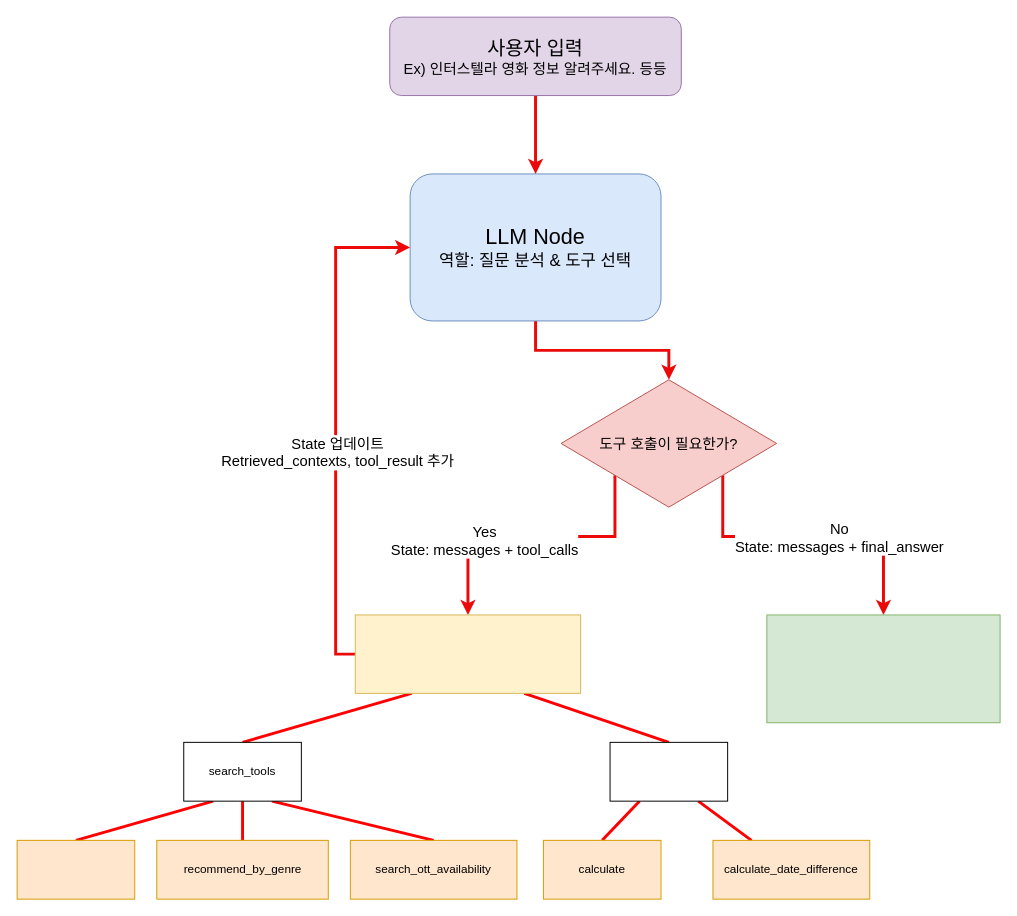
Some shapes in this 1017 by 916 pixel diagram are drawn without their labels. The box of each missing label's shape, as (x1, y1, x2, y2) in pixels:
normal_tools: (609, 741, 728, 801)
Reflection Node 역할: 중요도 계산 & 메모리 저장: (766, 614, 1000, 723)
search_rag: (16, 839, 135, 899)
Tool Node: (354, 614, 581, 693)
